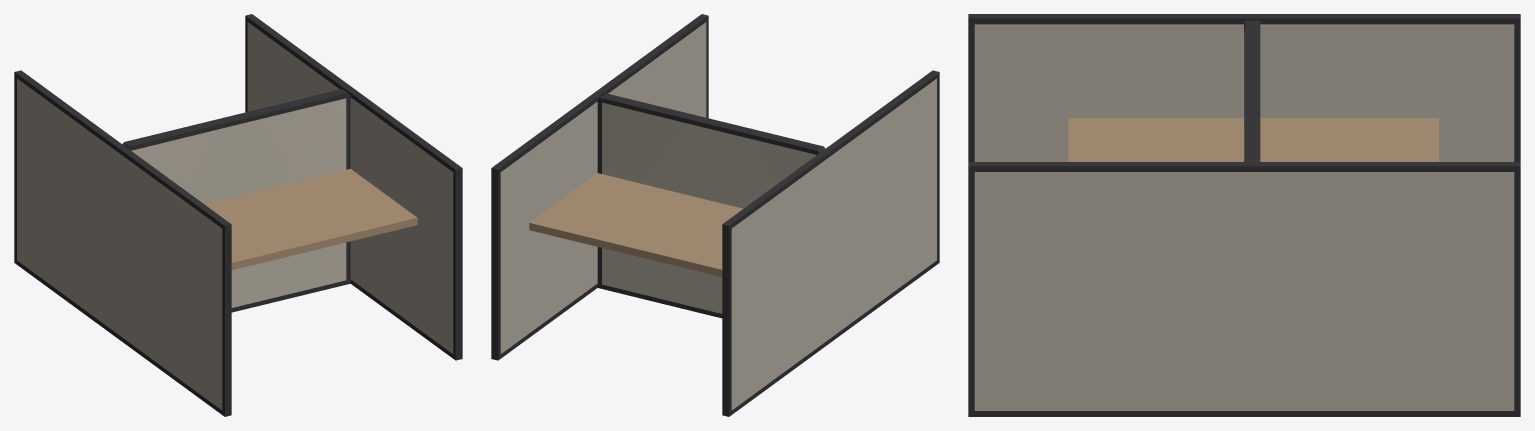
Rendered from 08_divider_full_H_desk_smallfragments.glb.
The picture shows the model from 3 angles, left to right: view 1: azimuth 30°, elevation 25°; view 2: azimuth 150°, elevation 25°; view 3: azimuth 270°, elevation 25°; orthographic projection. The views are drawn at different scales.
Parts seen in each view (by area): view 1: Panel_Left_fragment_2, Panel_Left_fragment_3, Panel_Right_fragment_3, Panel_Left_fragment_1, Panel_Back_fragment_2, Panel_Back_fragment_3, Attachment_01_fragment_3, Panel_Right_fragment_2, Panel_Right_fragment_1, Attachment_01_fragment_2, Panel_Back_fragment_1; view 2: Panel_Left_fragment_2, Panel_Left_fragment_3, Panel_Left_fragment_1, Panel_Right_fragment_1, Panel_Back_fragment_2, Panel_Back_fragment_3, Attachment_01_fragment_1, Panel_Right_fragment_2, Panel_Right_fragment_3, Attachment_01_fragment_2, Panel_Back_fragment_1; view 3: Panel_Right_fragment_2, Panel_Right_fragment_3, Panel_Right_fragment_1, Panel_Left_fragment_3, Panel_Left_fragment_2, Panel_Left_fragment_1, Attachment_01_fragment_2, Attachment_01_fragment_1, Attachment_01_fragment_3, Panel_Back_fragment_2, Panel_Back_fragment_3, Panel_Back_fragment_1.
Boxes of the visible parts, x1,y1,x2,y2 form: Panel_Left_fragment_2: [65, 108, 166, 373]; Panel_Left_fragment_3: [153, 172, 231, 416]; Panel_Right_fragment_3: [384, 115, 462, 360]; Panel_Left_fragment_1: [14, 70, 79, 309]; Panel_Back_fragment_2: [169, 107, 294, 312]; Panel_Back_fragment_3: [265, 89, 350, 296]; Attachment_01_fragment_3: [231, 181, 417, 270]; Panel_Right_fragment_2: [296, 51, 397, 317]; Panel_Right_fragment_1: [245, 14, 302, 112]; Attachment_01_fragment_2: [205, 169, 366, 224]; Panel_Back_fragment_1: [122, 131, 180, 186]; Panel_Left_fragment_2: [774, 123, 881, 368]; Panel_Left_fragment_3: [861, 70, 939, 304]; Panel_Left_fragment_1: [722, 187, 793, 416]; Panel_Right_fragment_1: [491, 130, 563, 360]; Panel_Back_fragment_2: [653, 112, 778, 318]; Panel_Back_fragment_3: [597, 93, 682, 301]; Attachment_01_fragment_1: [529, 201, 722, 276]; Panel_Right_fragment_2: [543, 66, 639, 312]; Panel_Right_fragment_3: [630, 14, 708, 118]; Attachment_01_fragment_2: [559, 173, 743, 230]; Panel_Back_fragment_1: [767, 135, 825, 191]; Panel_Right_fragment_2: [1120, 162, 1385, 416]; Panel_Right_fragment_3: [968, 162, 1156, 416]; Panel_Right_fragment_1: [1350, 162, 1520, 416]; Panel_Left_fragment_3: [968, 14, 1156, 161]; Panel_Left_fragment_2: [1142, 14, 1385, 117]; Panel_Left_fragment_1: [1372, 14, 1520, 161]; Attachment_01_fragment_2: [1157, 118, 1331, 161]; Attachment_01_fragment_1: [1318, 118, 1438, 161]; Attachment_01_fragment_3: [1068, 118, 1169, 161]; Panel_Back_fragment_2: [1244, 49, 1260, 110]; Panel_Back_fragment_3: [1244, 111, 1260, 161]; Panel_Back_fragment_1: [1244, 20, 1260, 125].
Bounding box in the file's own units: 1.96 × 1.5 × 3.
